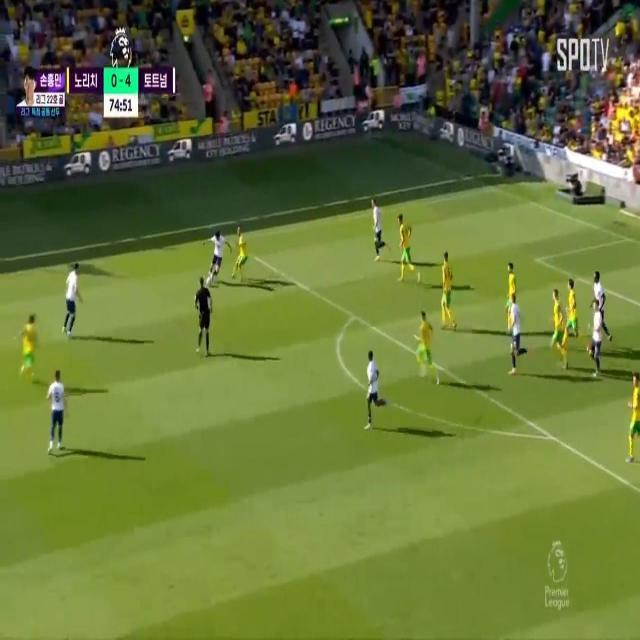player: (47, 366, 69, 455), (19, 312, 42, 390), (416, 310, 436, 389), (363, 350, 385, 417), (550, 289, 569, 365), (507, 290, 524, 373), (396, 213, 419, 273), (626, 376, 640, 474), (589, 295, 604, 385), (368, 196, 388, 263), (439, 250, 456, 328), (62, 261, 80, 332), (565, 272, 578, 364), (233, 220, 249, 279), (506, 254, 517, 330), (211, 231, 225, 289), (589, 265, 608, 303)
referee: (193, 272, 212, 354)
